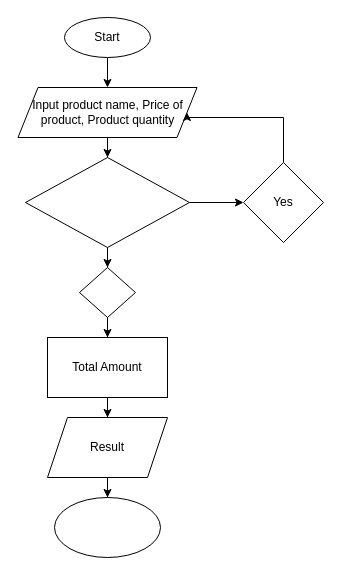
The diagram is 341 pixels wide and 575 high, and some of its shapes have lost their labels. The box of each missing label's shape, as (x1, y1, x2, y2) in pixels:
End / Exit: (54, 496, 160, 558)
If the costumer want make more purchases: (24, 156, 190, 248)
No: (78, 266, 136, 318)
